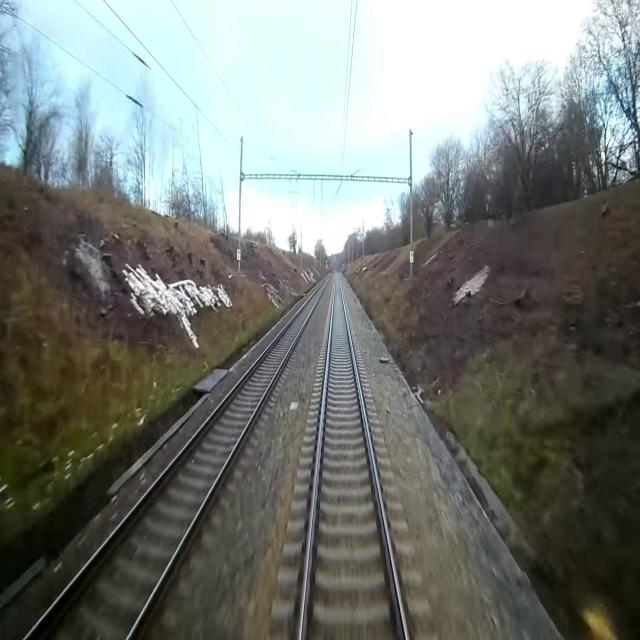rail-track: (29, 276, 329, 639), (302, 273, 405, 639)
